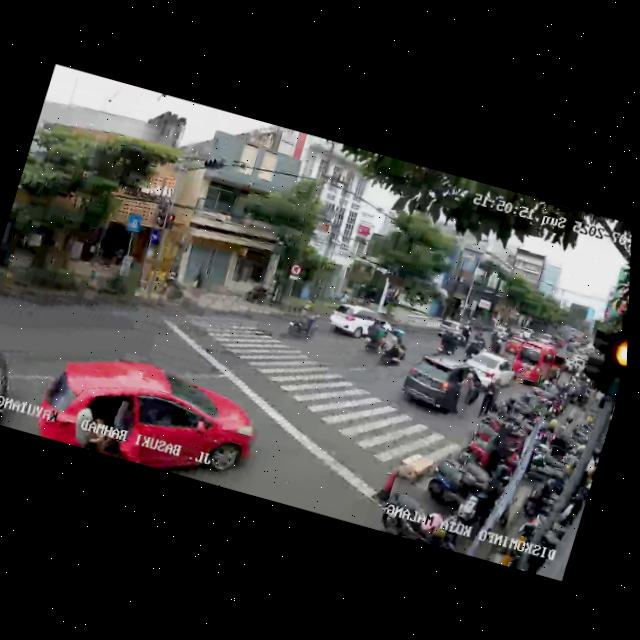car: (30, 339, 270, 491), (394, 350, 486, 427), (508, 337, 567, 393), (324, 299, 389, 347), (458, 343, 518, 395), (0, 332, 23, 424), (430, 317, 467, 360)
motorcycle: (280, 296, 324, 345), (371, 322, 412, 373), (359, 316, 391, 358), (461, 335, 484, 364), (488, 330, 506, 354)
person: (449, 370, 477, 422), (475, 375, 500, 422)
